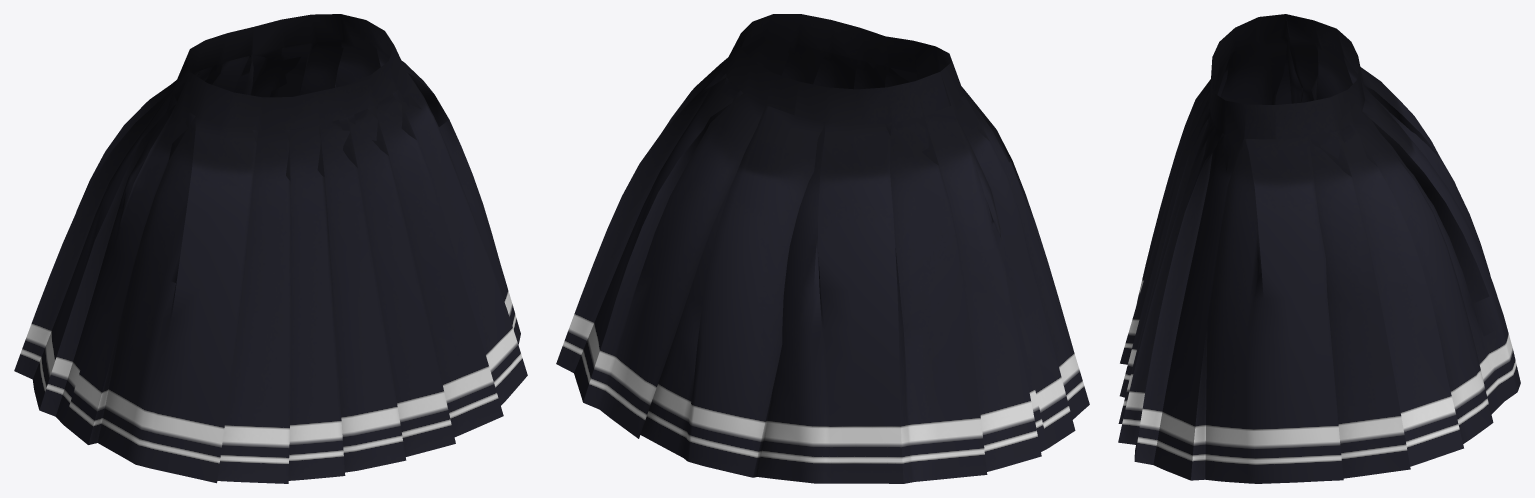
The model's file is Uniform_Down.fbx.
3 views of the same model, side by side, from view 1: azimuth 30°, elevation 25°; view 2: azimuth 150°, elevation 25°; view 3: azimuth 270°, elevation 25° (orthographic). The views are drawn at different scales.
Parts seen in each view (by area): view 1: Uniform_C_5_Down; view 2: Uniform_C_5_Down; view 3: Uniform_C_5_Down.
Part boxes in pixels (x1,y1,x2,y2): Uniform_C_5_Down: (14,14,527,483); Uniform_C_5_Down: (556,14,1089,483); Uniform_C_5_Down: (1118,14,1520,483).
Bounding box in the file's own units: 0.4303 × 0.3288 × 0.3398.
